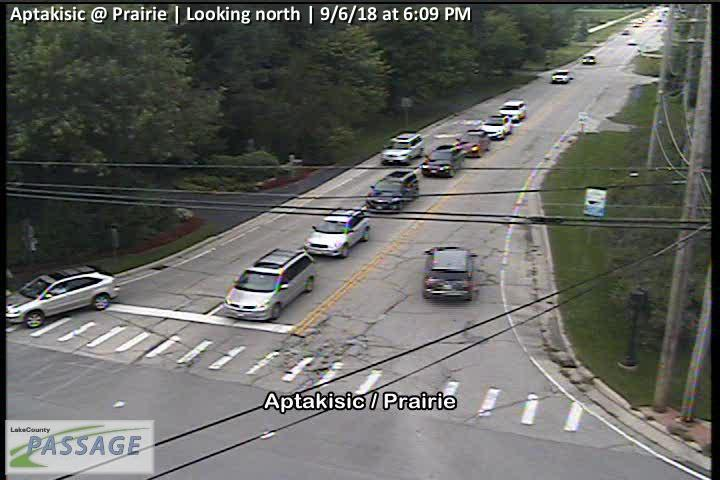SUV: (222, 246, 316, 320), (365, 171, 418, 209), (380, 132, 425, 165), (498, 100, 527, 121)
Sedan: (2, 265, 121, 328), (302, 208, 373, 257), (422, 245, 479, 301), (420, 143, 462, 179), (452, 127, 489, 157), (479, 114, 512, 139)
